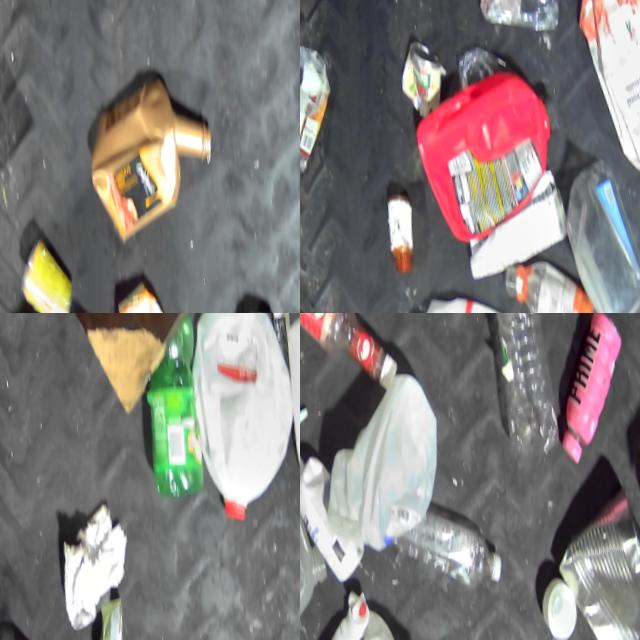can: (549, 464, 640, 640), (16, 228, 87, 313), (93, 578, 138, 640), (232, 293, 291, 313)
milk_jug: (313, 355, 459, 557), (174, 313, 300, 532), (300, 444, 349, 640)
non_white_jug: (406, 55, 567, 249), (84, 65, 230, 248), (309, 570, 449, 640)
plastic_bottle: (381, 480, 513, 594), (481, 313, 574, 450), (300, 37, 353, 202), (500, 254, 604, 313)
